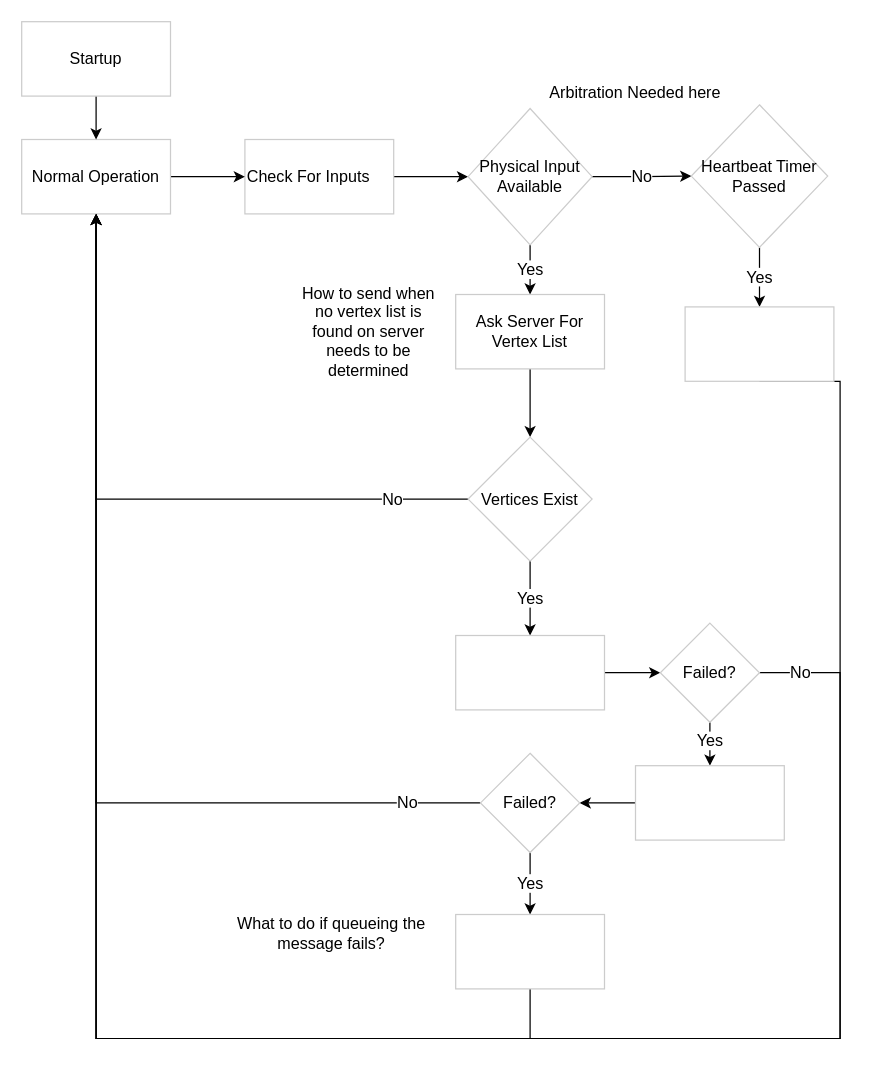
Image size: 872x1070. Some labels were removed from this diagram. Here are the shapes that lost their labels. From the top down, the centre of each, then its label:
(759,343): Send Heartbeat
(529,672): Send Data to Client Interrupt Servers
(709,802): Ask Server for Update on Client IPs
(529,951): Queue Message to Server
